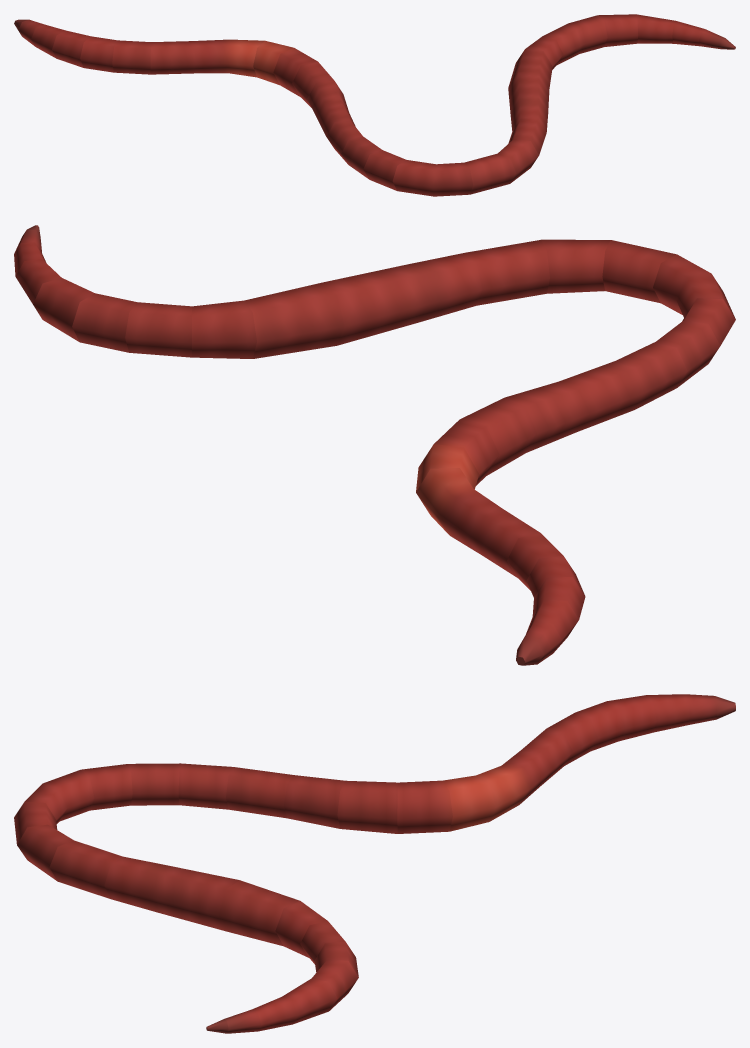
Rendered from Worm_01.FBX.
3 views of the same model, one above another, from view 1: azimuth 30°, elevation 25°; view 2: azimuth 150°, elevation 25°; view 3: azimuth 270°, elevation 25° (orthographic). The views are drawn at different scales.
Parts seen in each view (by area): view 1: Worm_01; view 2: Worm_01; view 3: Worm_01.
Boxes of the visible parts, x1,y1,x2,y2 form: Worm_01: (14, 14, 735, 196); Worm_01: (14, 225, 735, 665); Worm_01: (14, 694, 735, 1033).
Bounding box in the file's own units: 26.72 × 1.59 × 24.95.
